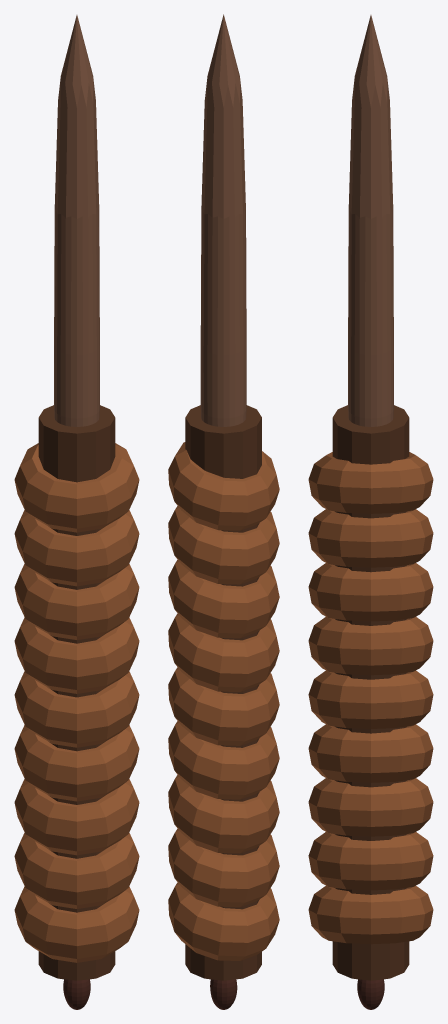
File: Wand 406.glb
3 renders of one model, left to right at view 1: azimuth 90°, elevation 25°; view 2: azimuth 150°, elevation 25°; view 3: azimuth 270°, elevation 25°, orthographic.
Parts seen in each view (by area): view 1: GeneratedWand; view 2: GeneratedWand; view 3: GeneratedWand.
Boxes of the visible parts, box(x1,y1,x2,y2) form: GeneratedWand: box(14, 15, 139, 1009); GeneratedWand: box(168, 14, 279, 1009); GeneratedWand: box(308, 15, 433, 1009).
Bounding box in the file's own units: 0.0497 × 0.5106 × 0.0581.
